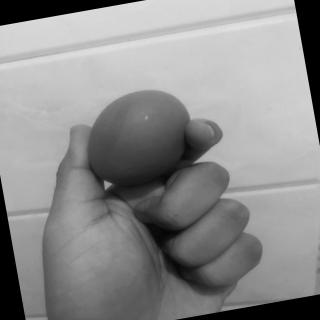Telur: (77, 84, 203, 196)
